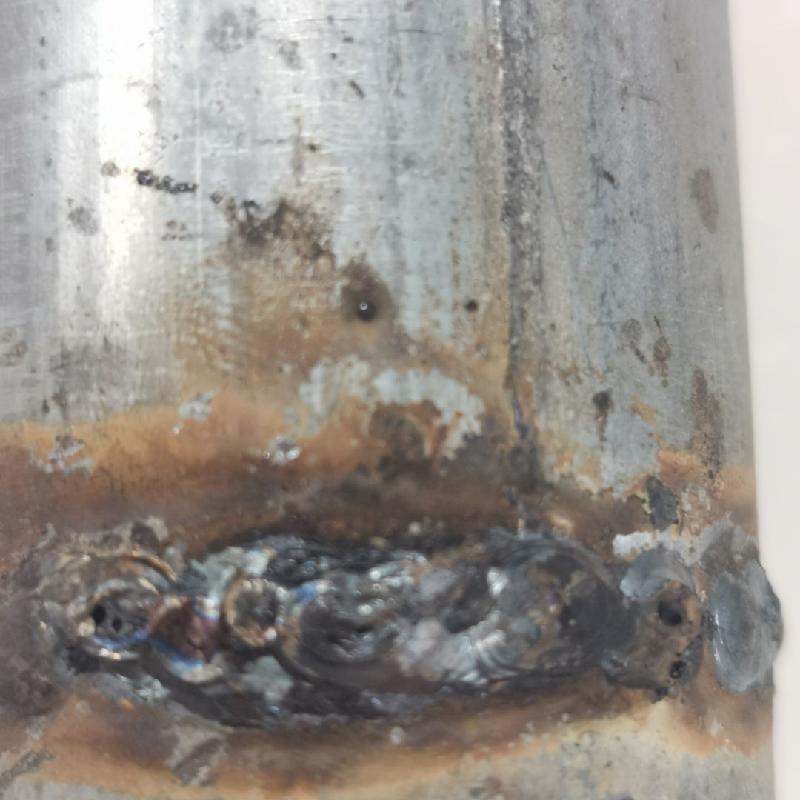Surface_pores: (636, 569, 706, 689)
wrong_size: (423, 528, 787, 700)
